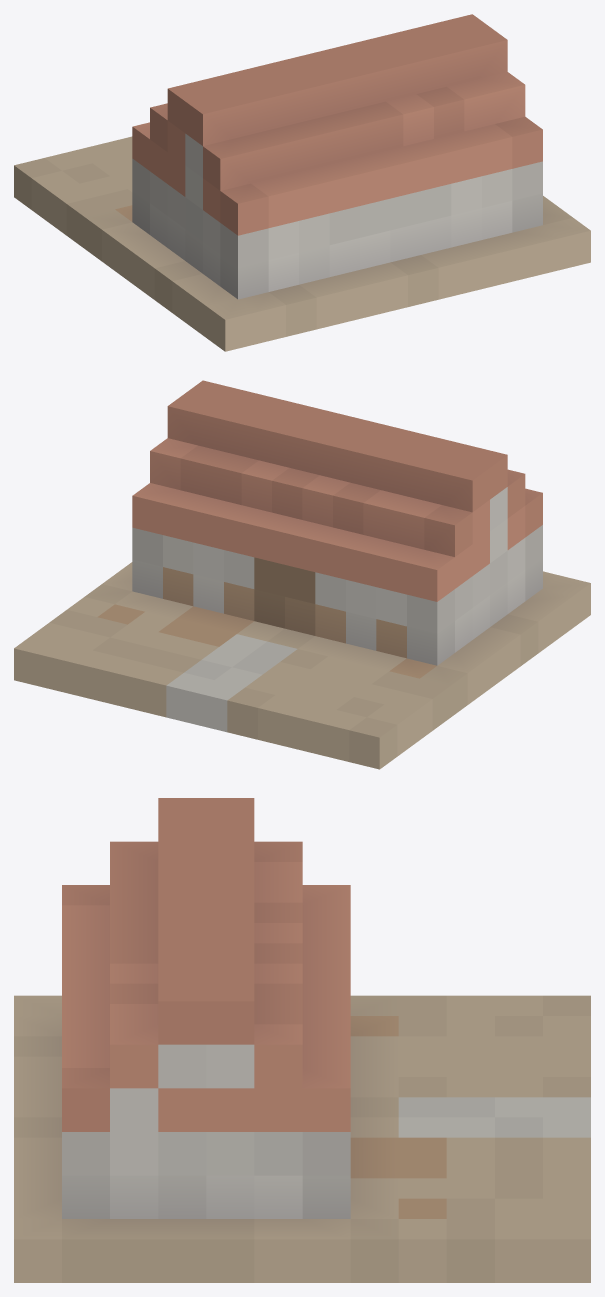
Rendered from warehouse.l2.lite.glb.
3 renders of one model, top to bottom at view 1: azimuth 30°, elevation 25°; view 2: azimuth 150°, elevation 25°; view 3: azimuth 270°, elevation 25°, orthographic. The views are drawn at different scales.
Parts seen in each view (by area): view 1: warehouse; view 2: warehouse; view 3: warehouse.
Part boxes in pixels (x1,y1,x2,y2): warehouse: (14,14,590,351); warehouse: (14,380,590,769); warehouse: (14,798,590,1282).
Size of the model in its own units: 6 by 3 by 6.
